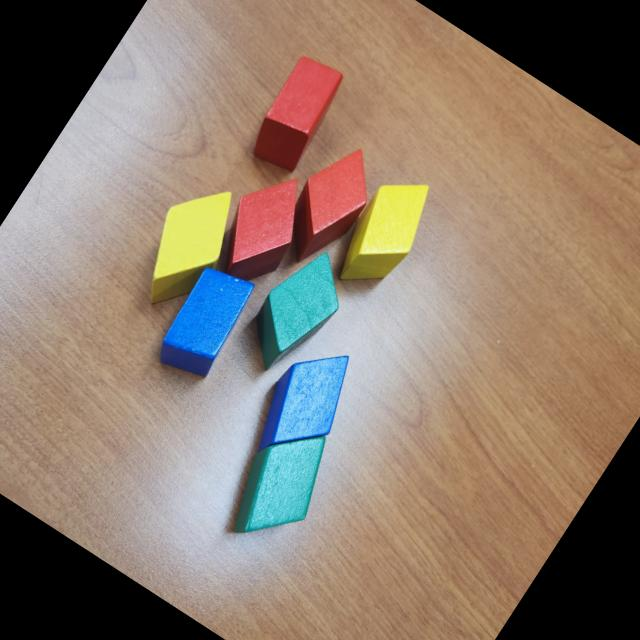blue: (238, 332, 369, 478), (148, 255, 263, 388)
green: (212, 408, 348, 561), (232, 238, 361, 386)
red: (266, 134, 390, 276), (200, 157, 323, 296), (241, 49, 352, 178)
yellow: (121, 170, 252, 321), (324, 164, 444, 304)
